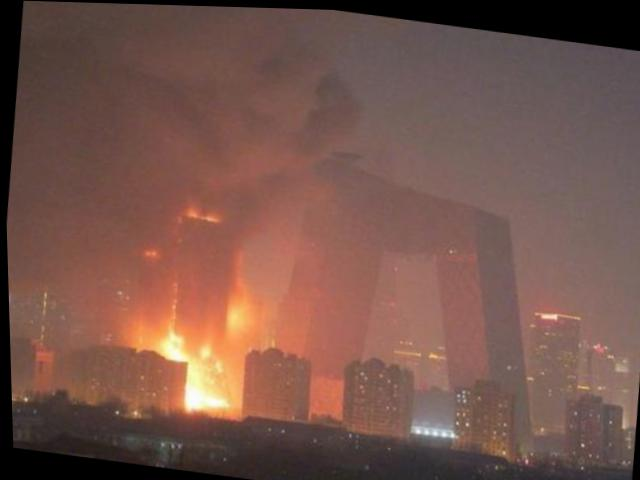fire: (156, 331, 230, 415), (221, 281, 253, 336), (184, 199, 220, 222)
